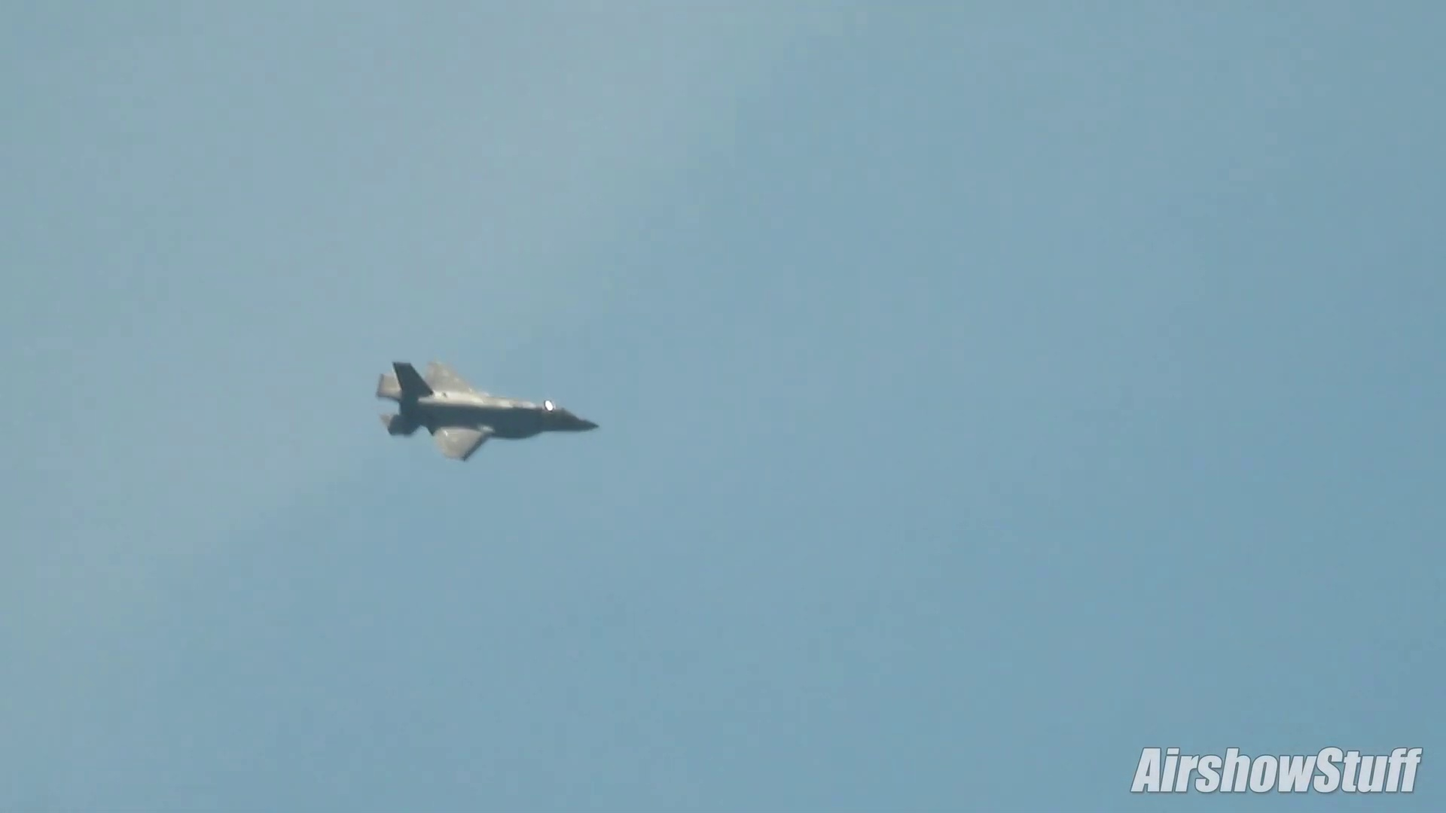F35: (366, 349, 609, 469)
